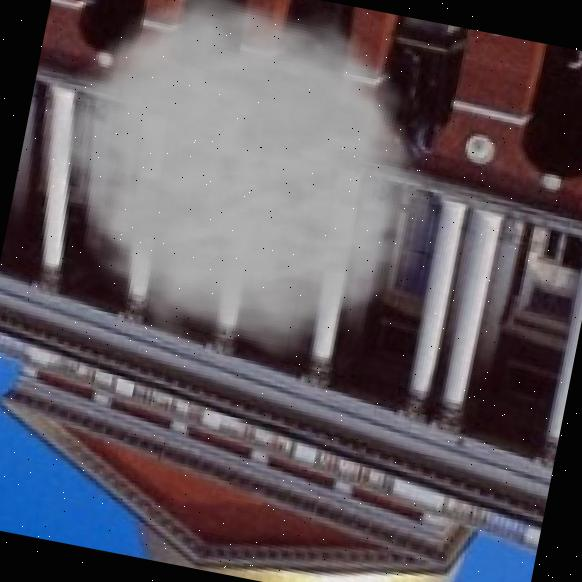smoke: (7, 0, 488, 387)
